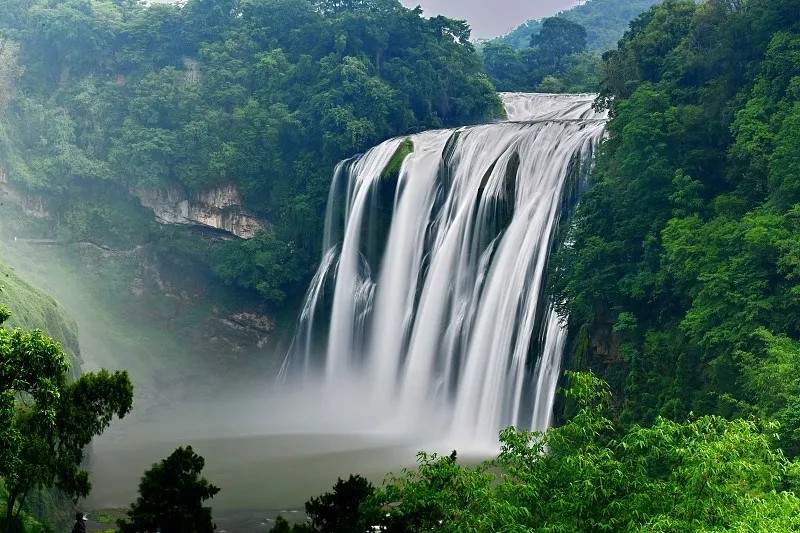Huangguoshu: (277, 92, 613, 433)
